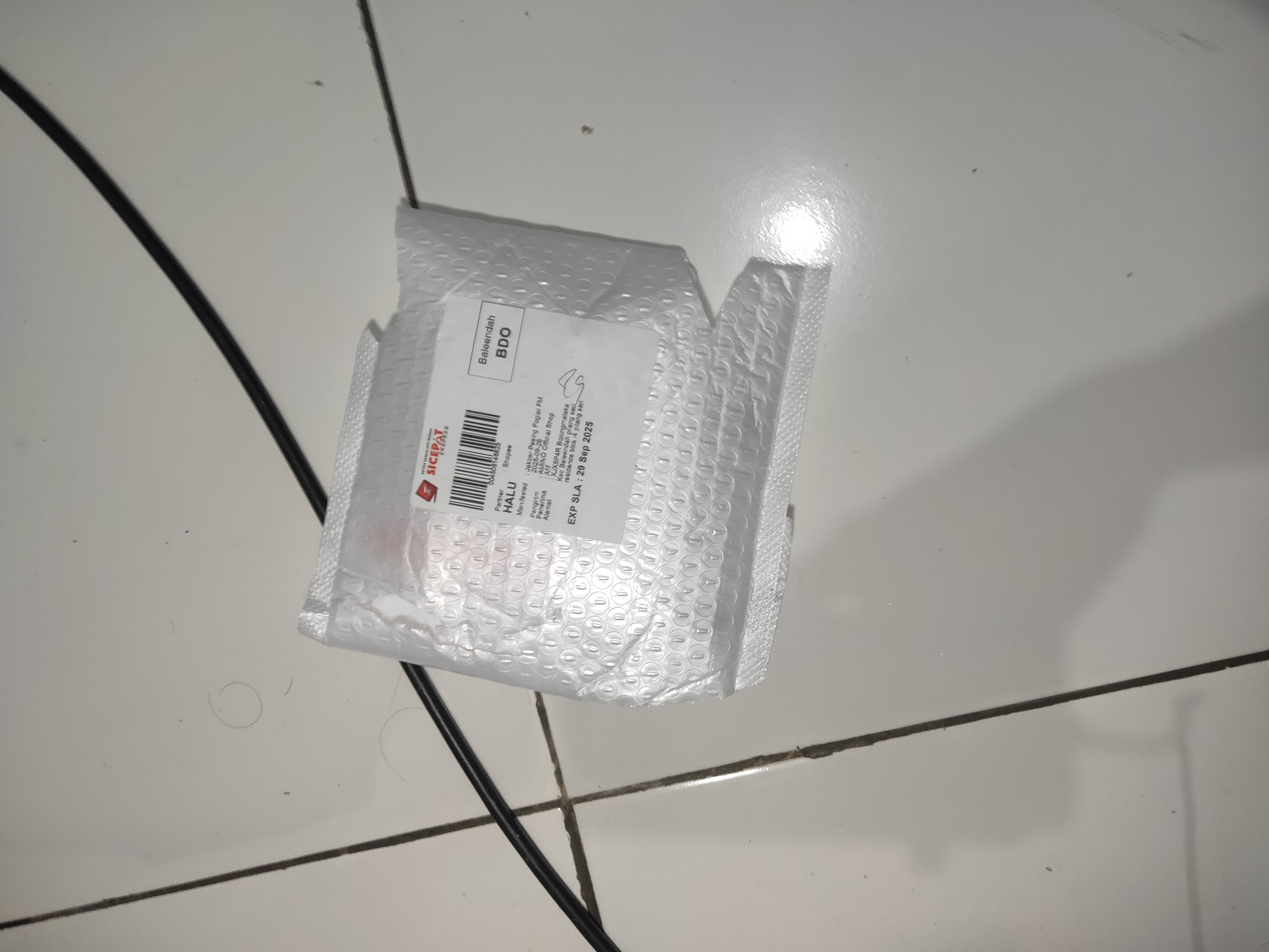damaged package: (674, 251, 756, 334), (367, 209, 400, 350)
undamaged: (285, 198, 839, 735)
